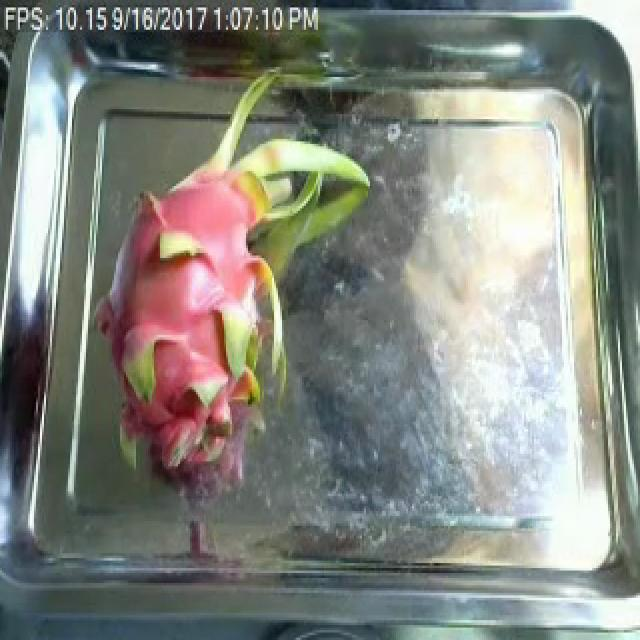fruit: (72, 77, 370, 511)
